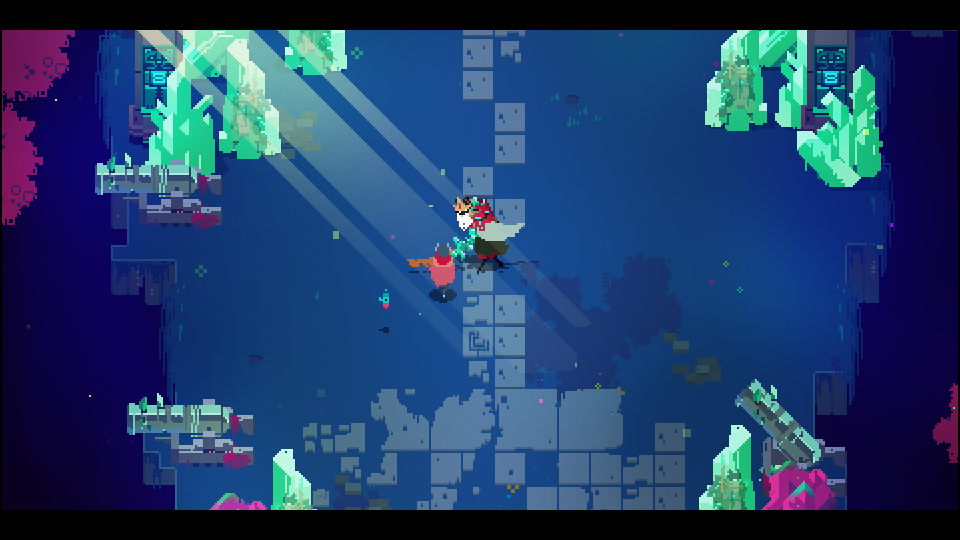hanged_man: (428, 191, 530, 278)
player: (427, 242, 457, 303)
